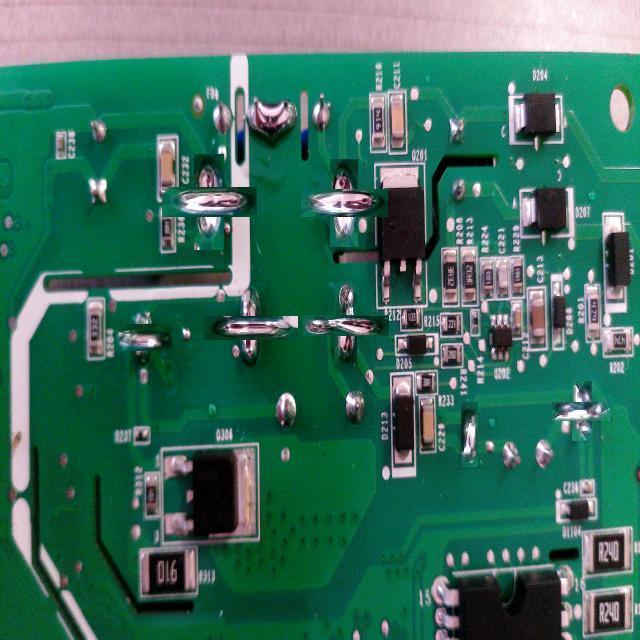Short_circuit: (178, 170, 240, 233), (220, 298, 280, 358), (316, 174, 374, 232), (320, 298, 374, 352), (246, 92, 298, 146), (123, 316, 165, 359), (562, 392, 602, 432), (462, 402, 479, 467)
